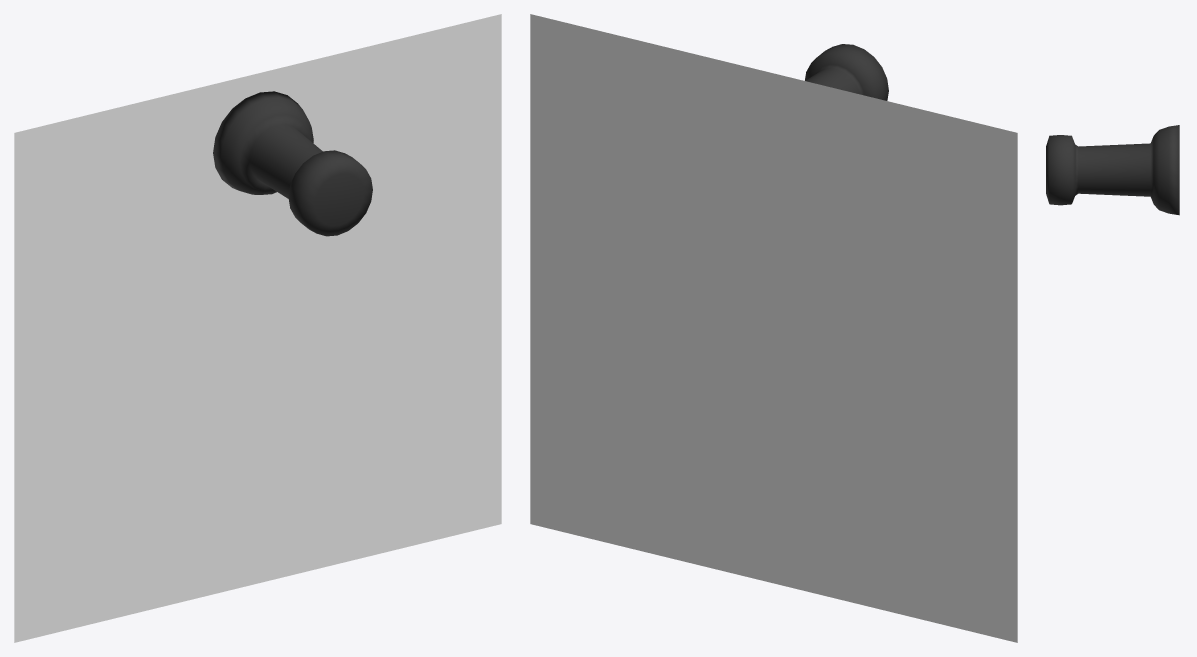
Rendered from kami.fbx.
3 views of the same model, side by side, from view 1: azimuth 30°, elevation 25°; view 2: azimuth 150°, elevation 25°; view 3: azimuth 270°, elevation 25° (orthographic). The views are drawn at different scales.
Parts seen in each view (by area): view 1: kami1, gabyou; view 2: kami1, gabyou; view 3: gabyou.
Part boxes in pixels (x1,y1,x2,y2): kami1: (14, 14, 501, 642); gabyou: (213, 91, 372, 236); kami1: (530, 14, 1017, 642); gabyou: (805, 44, 888, 100); gabyou: (1046, 125, 1179, 215).
Bounding box in the file's own units: 127 × 127 × 36.86.
2 materials, 2 textured.
